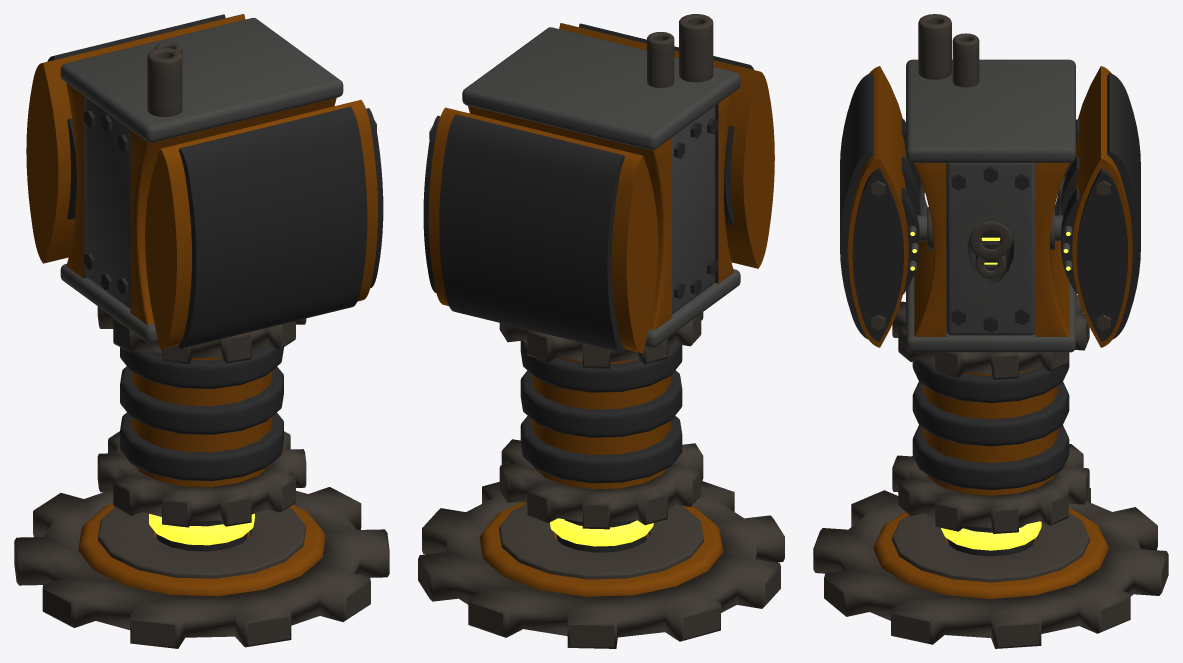
File: Турель.fbx
3 renders of one model, left to right at view 1: azimuth 30°, elevation 25°; view 2: azimuth 150°, elevation 25°; view 3: azimuth 270°, elevation 25°, orthographic. The views are drawn at different scales.
Visible parts, largest first — view 1: Шестеренушка_2_3, Cube_3, Cube_1_2, Cube_1, Шестеренушка_1_2, Cube_2, Cube_13, Cylinder_5, Cylinder_3_6, Cylinder_4_2, Cube_1_3, Cylinder_2_7 (+11 smaller); view 2: Шестеренушка_2_3, Cube_4, Cube_1_2, Cube_2, Шестеренушка_1_2, Cube_1, Cube_13, Cylinder_5, Cylinder_3_6, Cylinder_4_2, Cube_2_2, Cylinder_2_7 (+12 smaller); view 3: Шестеренушка_2_3, Cube_1_2, Cube_13_2, Шестеренушка_1_2, Cube_8, Cube_7, Cylinder_5, Cube_1, Cube_2, Cube_2_2, Cylinder_3_6, Cylinder_4_2 (+16 smaller).
Part boxes in pixels (x1=…): Шестеренушка_2_3: x1=14, y1=487, x2=389, y2=648; Cube_3: x1=179, y1=106, x2=367, y2=348; Cube_1_2: x1=60, y1=17, x2=343, y2=142; Cube_1: x1=145, y1=100, x2=377, y2=349; Шестеренушка_1_2: x1=97, y1=431, x2=306, y2=527; Cube_2: x1=26, y1=14, x2=245, y2=263; Cube_13: x1=86, y1=97, x2=130, y2=309; Cylinder_5: x1=131, y1=351, x2=272, y2=486; Cylinder_3_6: x1=120, y1=412, x2=283, y2=481; Cylinder_4_2: x1=120, y1=366, x2=283, y2=434; Cube_1_3: x1=130, y1=98, x2=336, y2=324; Cylinder_2_7: x1=120, y1=346, x2=283, y2=388; Шестеренушка_2_3: x1=418, y1=481, x2=784, y2=648; Cube_4: x1=439, y1=114, x2=624, y2=352; Cube_1_2: x1=462, y1=27, x2=740, y2=150; Cube_2: x1=428, y1=107, x2=657, y2=353; Шестеренушка_1_2: x1=499, y1=439, x2=703, y2=529; Cube_1: x1=559, y1=23, x2=774, y2=268; Cube_13: x1=672, y1=106, x2=715, y2=313; Cylinder_5: x1=532, y1=357, x2=670, y2=489; Cylinder_3_6: x1=520, y1=415, x2=682, y2=483; Cylinder_4_2: x1=520, y1=370, x2=682, y2=437; Cube_2_2: x1=468, y1=106, x2=671, y2=330; Cylinder_2_7: x1=520, y1=340, x2=682, y2=392; Шестеренушка_2_3: x1=813, y1=488, x2=1168, y2=648; Cube_1_2: x1=906, y1=59, x2=1075, y2=162; Cube_13_2: x1=946, y1=163, x2=1035, y2=335; Шестеренушка_1_2: x1=892, y1=444, x2=1089, y2=533; Cube_8: x1=852, y1=168, x2=903, y2=341; Cube_7: x1=1076, y1=168, x2=1127, y2=341; Cylinder_5: x1=923, y1=367, x2=1058, y2=495; Cube_1: x1=848, y1=66, x2=908, y2=347; Cube_2: x1=1072, y1=66, x2=1132, y2=347; Cube_2_2: x1=1035, y1=163, x2=1069, y2=336; Cylinder_3_6: x1=912, y1=425, x2=1069, y2=490; Cylinder_4_2: x1=912, y1=382, x2=1069, y2=446.
Bounding box in the file's own units: 213 × 356 × 213.
